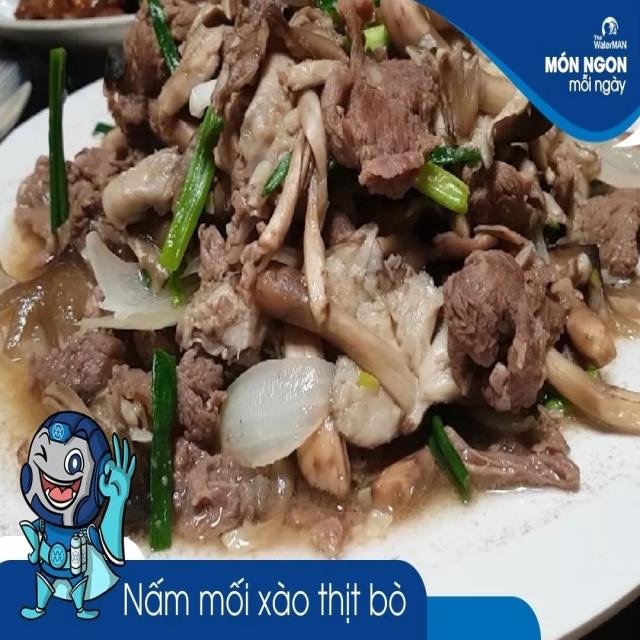bo xao: (0, 0, 639, 556)
